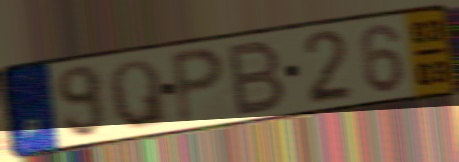2: (300, 28, 357, 108)
6: (357, 22, 406, 96)
9: (54, 63, 107, 141)
B: (226, 37, 289, 119)
P: (168, 44, 229, 128)
Q: (106, 57, 171, 131)
